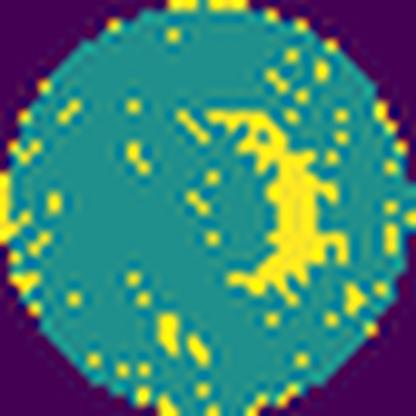Donut: (118, 90, 355, 307)
